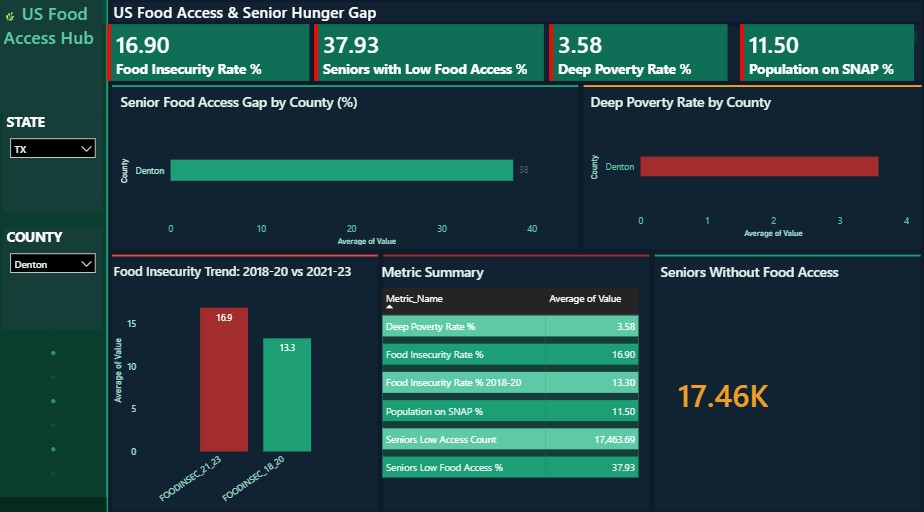

The dashboard page shown, as its layout file describes it:
{"tool":"powerbi","page":{"name":"Page 2","canvas":[1280,720],"ordinal":0},"visuals":[{"type":"cardVisual","title":"Food Insecurity Rate %","fields":{"Data":["Avg(StateAndCountyData.Value)"]},"box":[131.8,19.7,313.6,112.1],"z":0},{"type":"cardVisual","title":"Food Insecurity Rate %","fields":{"Data":["Avg(StateAndCountyData.Value)"]},"box":[416.7,19.7,351.5,112.1],"z":1000},{"type":"cardVisual","title":"Food Insecurity Rate %","fields":{"Data":["Avg(StateAndCountyData.Value)"]},"box":[742.4,19.7,280.3,112.1],"z":2000},{"type":"cardVisual","title":"Food Insecurity Rate %","fields":{"Data":["Avg(StateAndCountyData.Value)"]},"box":[1006.1,19.7,274.2,112.1],"z":3000},{"type":"slicer","title":"STATE","fields":{"Values":["StateAndCountyData.State"]},"box":[4.5,159.1,137.9,137.9],"z":4000},{"type":"slicer","title":"COUNTY","fields":{"Values":["StateAndCountyData.County"]},"box":[4.5,318.2,137.9,142.4],"z":5000},{"type":"textbox","box":[151.5,0,1109.1,39.4],"z":6000},{"type":"clusteredBarChart","title":"Senior Food Access Gap by County (%)","fields":{"Category":["StateAndCountyData.County"],"Y":["Avg(StateAndCountyData.Value)"]},"box":[162.1,131.8,628.8,215.2],"z":7000},{"type":"clusteredColumnChart","title":"Food Insecurity Trend: 2018-20 vs 2021-23","fields":{"Y":["Avg(StateAndCountyData.Value)"],"Category":["StateAndCountyData.Variable_Code"]},"box":[151.5,360.6,365.2,359.1],"z":8000},{"type":"clusteredBarChart","title":"Deep Poverty Rate by County","fields":{"Category":["StateAndCountyData.County"],"Y":["Avg(StateAndCountyData.Value)"]},"box":[810.6,131.8,450,204.5],"z":9000},{"type":"tableEx","title":"Metric Summary","fields":{"Values":["StateAndCountyData.Metric_Name","Avg(StateAndCountyData.Value)"]},"box":[522.7,360.6,365.2,359.1],"z":10000},{"type":"cardVisual","title":"Seniors Without Food Access","fields":{"Data":["Sum(StateAndCountyData.Value)"]},"box":[907.6,360.6,353,340.9],"z":10001},{"type":"textbox","box":[0,0,142.4,159.1],"z":10002}]}

Visuals, with their boxes in screenshot pixels (x1, y1, x2, y2), scaled from the page's 1280x720 canvas onto the 924x512 screenshot:
"Food Insecurity Rate %" cardVisual: left=95, top=14, right=322, bottom=94
"Food Insecurity Rate %" cardVisual: left=301, top=14, right=555, bottom=94
"Food Insecurity Rate %" cardVisual: left=536, top=14, right=738, bottom=94
"Food Insecurity Rate %" cardVisual: left=726, top=14, right=923, bottom=94
"STATE" slicer: left=3, top=113, right=103, bottom=211
"COUNTY" slicer: left=3, top=226, right=103, bottom=328
textbox: left=109, top=0, right=910, bottom=28
"Senior Food Access Gap by County (%)" clusteredBarChart: left=117, top=94, right=571, bottom=247
"Food Insecurity Trend: 2018-20 vs 2021-23" clusteredColumnChart: left=109, top=256, right=373, bottom=511
"Deep Poverty Rate by County" clusteredBarChart: left=585, top=94, right=910, bottom=239
"Metric Summary" tableEx: left=377, top=256, right=641, bottom=511
"Seniors Without Food Access" cardVisual: left=655, top=256, right=910, bottom=499
textbox: left=0, top=0, right=103, bottom=113
